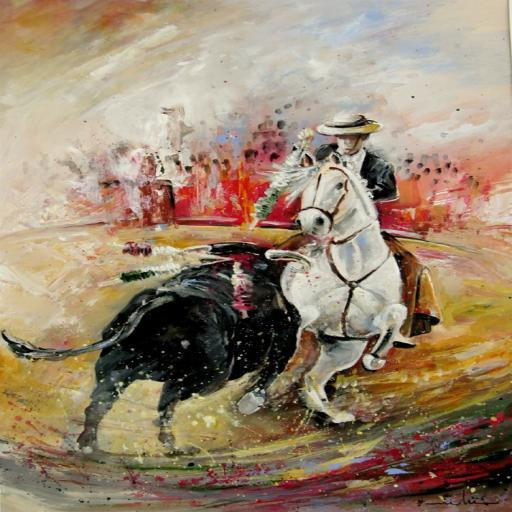horse: (0, 244, 313, 459), (232, 154, 414, 426)
